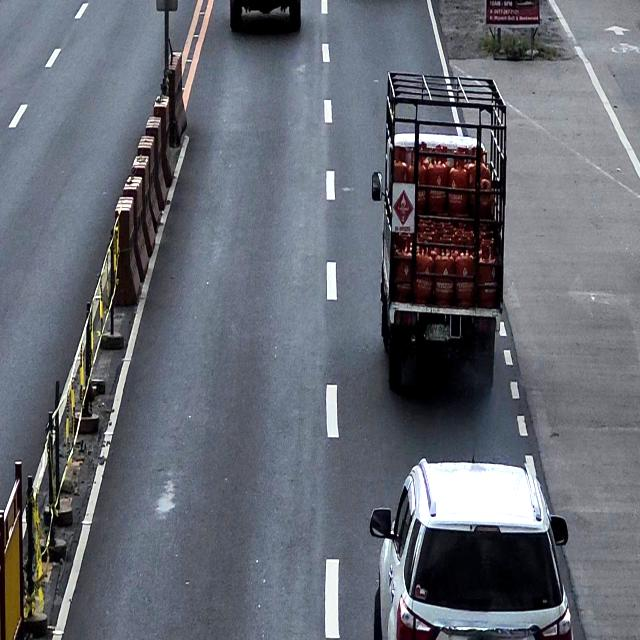Car: (370, 458, 572, 639)
License-Plate: (422, 322, 452, 342)
Truck: (371, 69, 507, 392)
